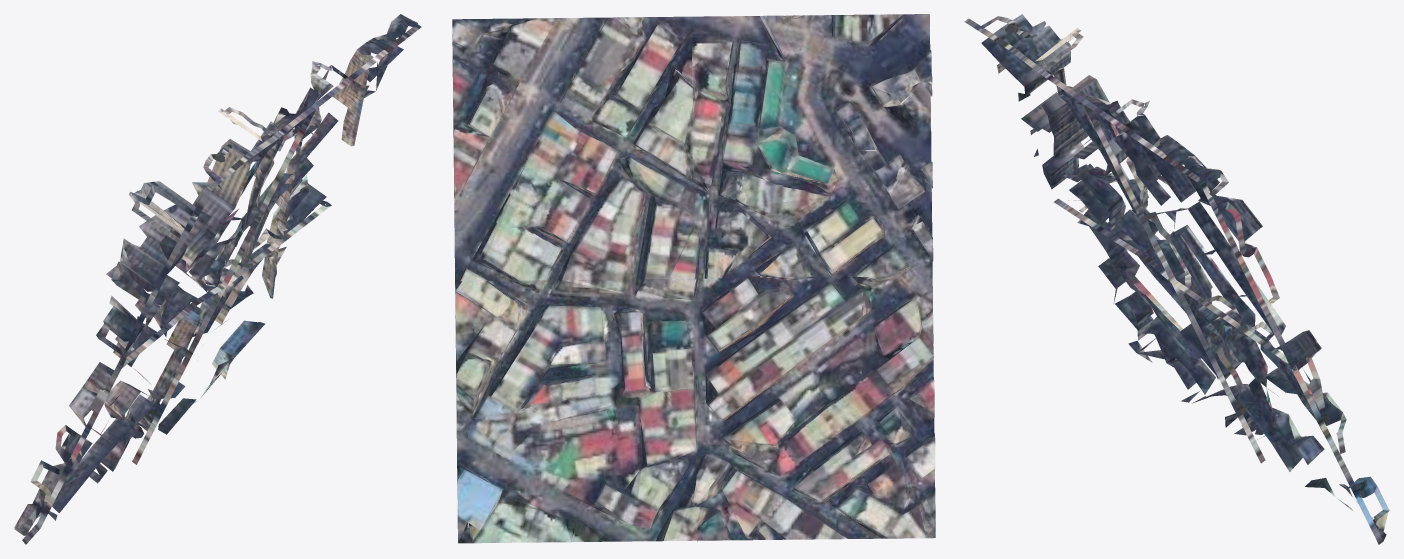
The picture shows the model from 3 angles, left to right: view 1: azimuth 30°, elevation 25°; view 2: azimuth 150°, elevation 25°; view 3: azimuth 270°, elevation 25°; orthographic projection. The views are drawn at different scales.
Bounding box in the file's own units: 307 × 293 × 261.
Materials: 1 (1 with a texture image).
